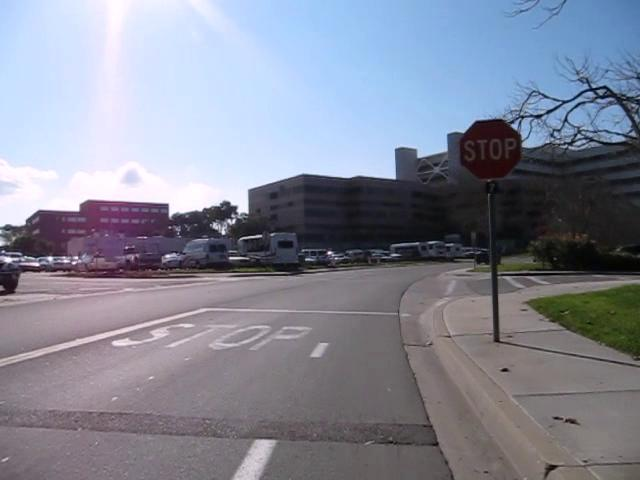stop: (457, 117, 522, 181)
